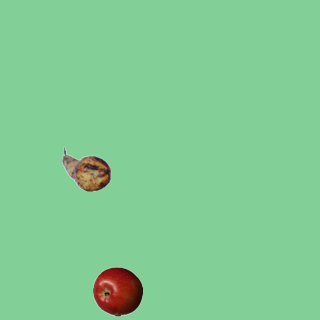Apple Braeburn: (92, 266, 142, 316)
Pear Abate: (61, 144, 111, 194)
